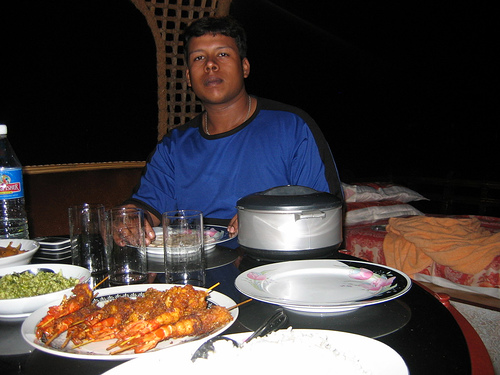without_mask: (180, 35, 252, 107)
